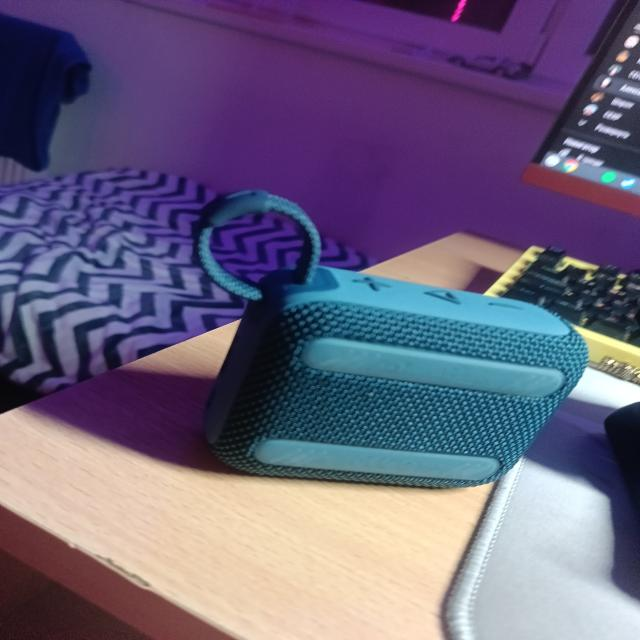column JBL: (169, 187, 625, 498)
